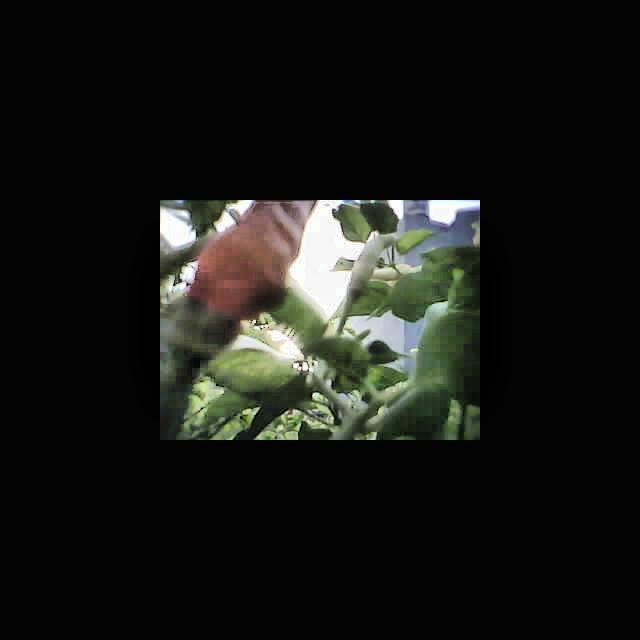Cabai: (173, 200, 295, 329)
